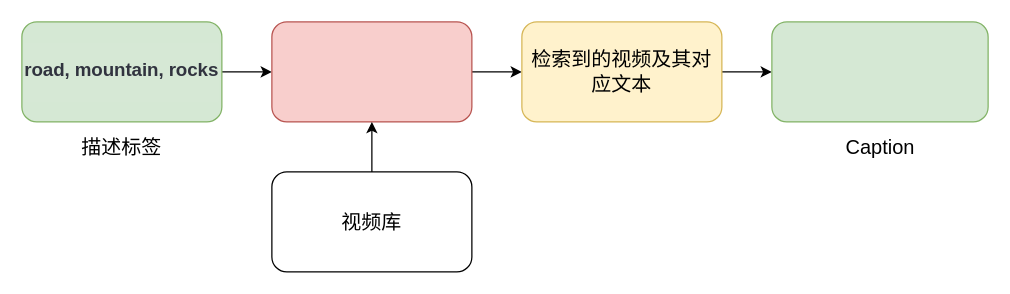
The diagram is 1010 pixels wide and 294 high, and some of its shapes have lost their labels. Here are the shapes that lost their labels. From the top down, the box of each, then its label:
(271, 21, 472, 122): CLIP CN
(771, 21, 988, 122): A winding dirt road ...
